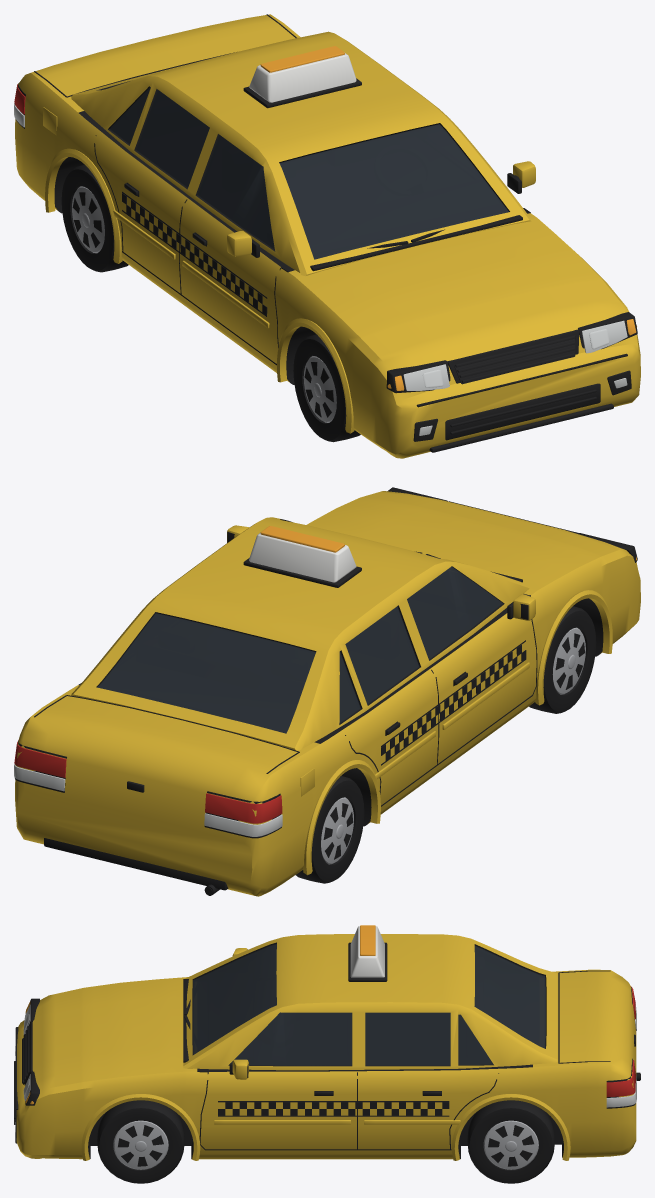
The model's file is Taxi.fbx.
The picture shows the model from 3 angles, top to bottom: view 1: azimuth 30°, elevation 25°; view 2: azimuth 150°, elevation 25°; view 3: azimuth 270°, elevation 25°; orthographic projection. The views are drawn at different scales.
Visible parts, largest first — view 1: Taxi_Mesh; view 2: Taxi_Mesh; view 3: Taxi_Mesh.
Part boxes in pixels (x1,y1,x2,y2): Taxi_Mesh: (14,14,640,458); Taxi_Mesh: (14,487,640,896); Taxi_Mesh: (14,925,640,1183).
Bounding box in the file's own units: 2.17 × 1.68 × 4.86.
